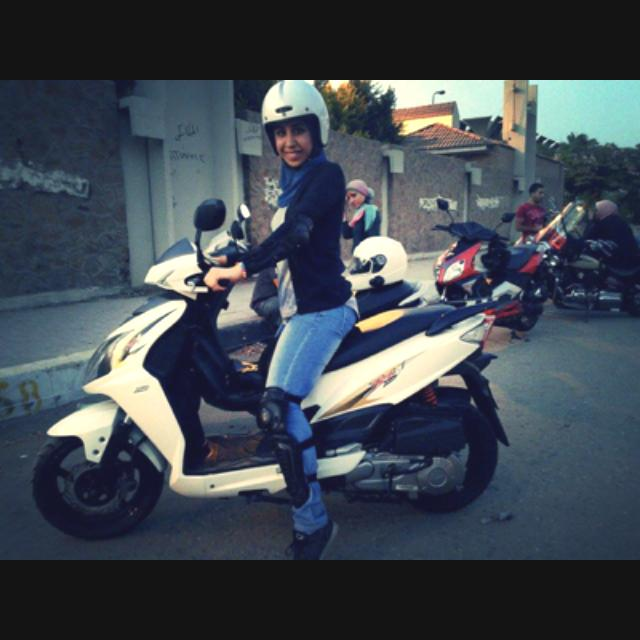With Helmet: (246, 80, 348, 176)
